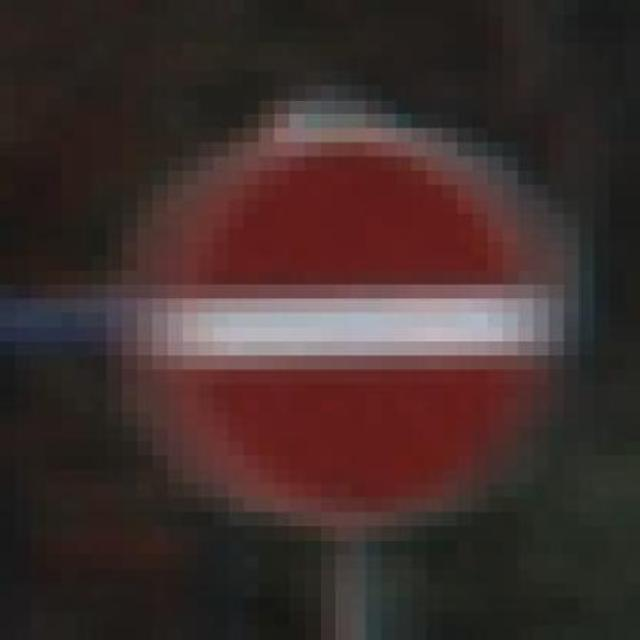B2: (129, 118, 566, 526)
